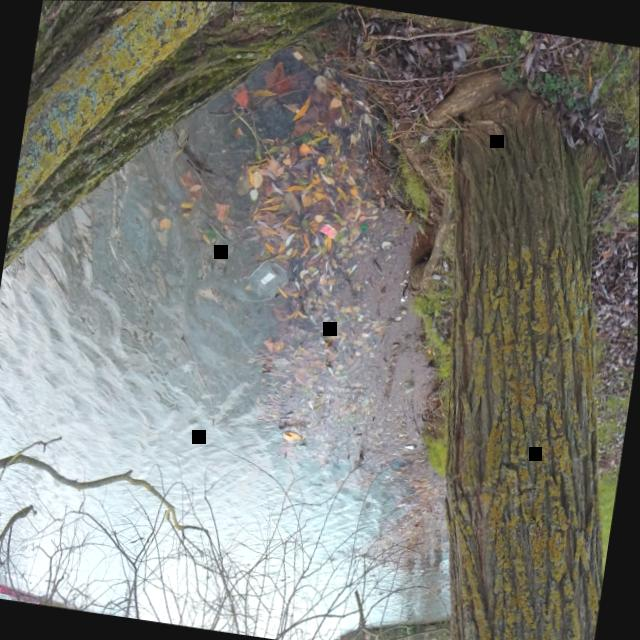Plastic bottle cap: (360, 223, 367, 230)
Tupperware: (248, 260, 289, 299)
Unlabeled litter: (319, 222, 337, 237), (404, 379, 414, 392), (404, 444, 417, 448)
